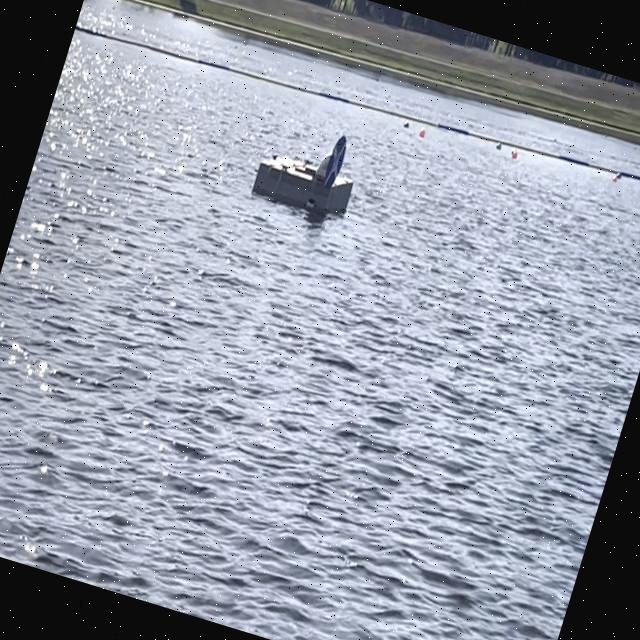buoy: (494, 140, 503, 152), (402, 120, 412, 130), (418, 126, 426, 138), (614, 170, 623, 180), (610, 174, 618, 184), (510, 152, 518, 160)
